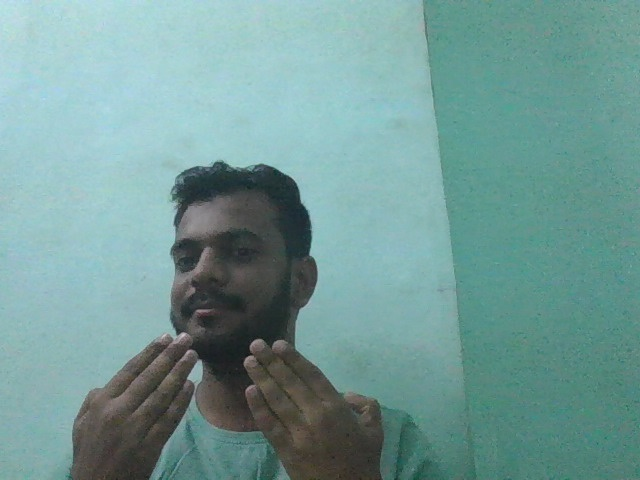thankyou: (59, 325, 390, 475)
